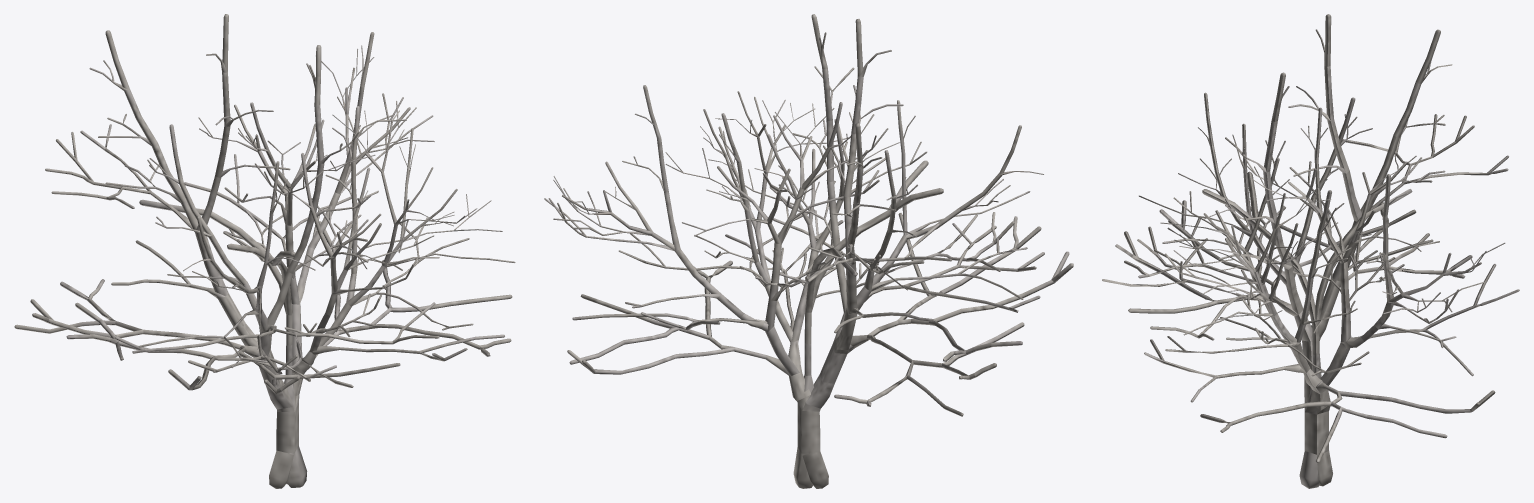
File: Dead_derevo_01.fbx
The picture shows the model from 3 angles, left to right: view 1: azimuth 30°, elevation 25°; view 2: azimuth 150°, elevation 25°; view 3: azimuth 270°, elevation 25°; orthographic projection. The views are drawn at different scales.
Parts seen in each view (by area): view 1: d1; view 2: d1; view 3: d1.
Part boxes in pixels (box(x1,y1,x2,y2)): d1: box(14, 14, 515, 488); d1: box(544, 14, 1073, 488); d1: box(1102, 14, 1519, 488).
Bounding box in the file's own units: 140 × 145 × 123.
